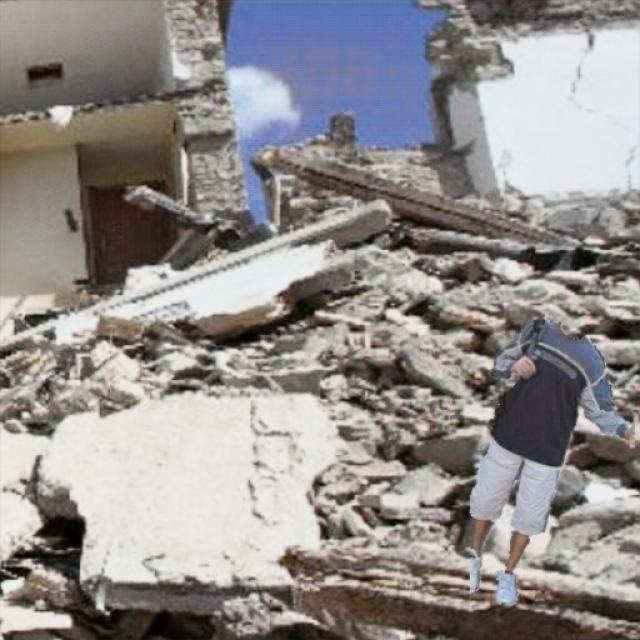Person in Rubble: (470, 314, 634, 605)
